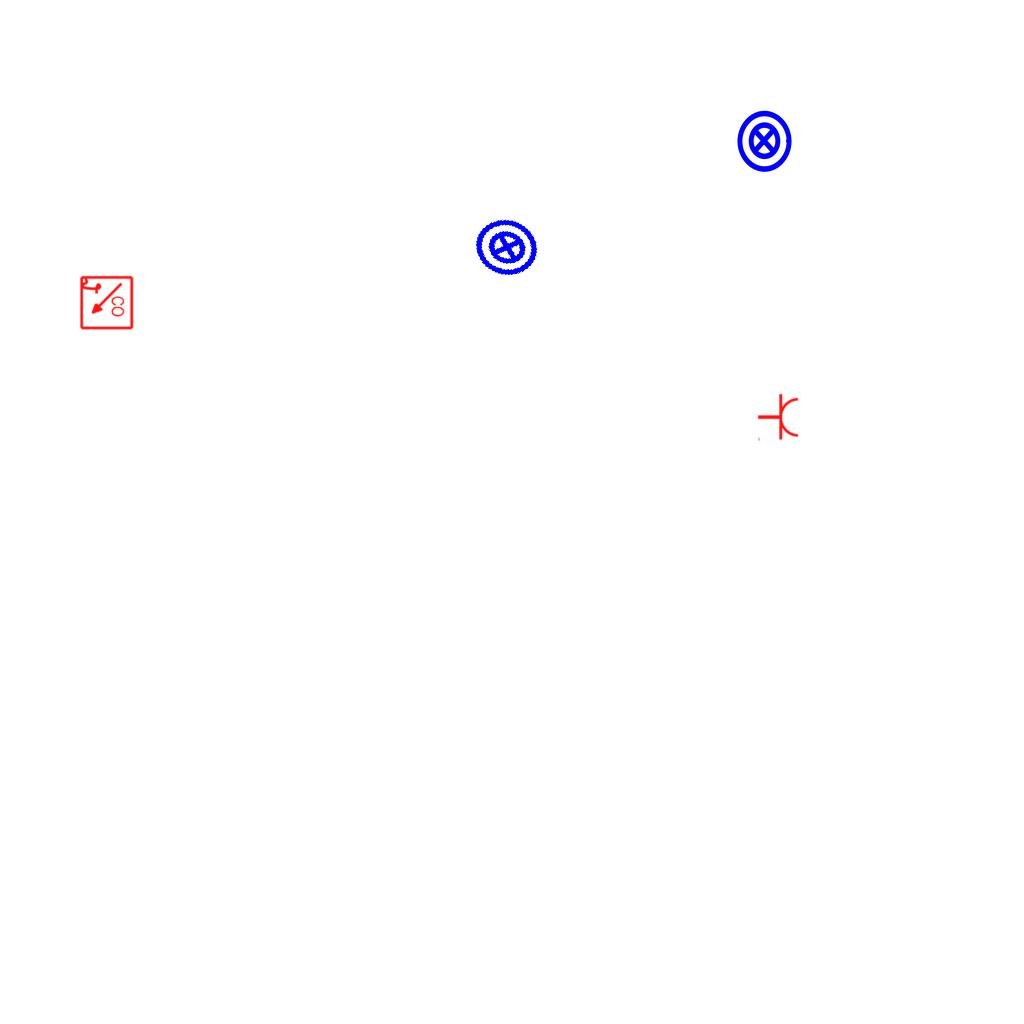ROA_Rauchmelder_optisch_mit_Signalgeber_(Sockelsirene): (78, 275, 134, 331)
Schukosteckdose_einfach: (757, 393, 800, 443)
Taster_beleuchtet: (465, 205, 549, 289), (731, 108, 797, 174)
